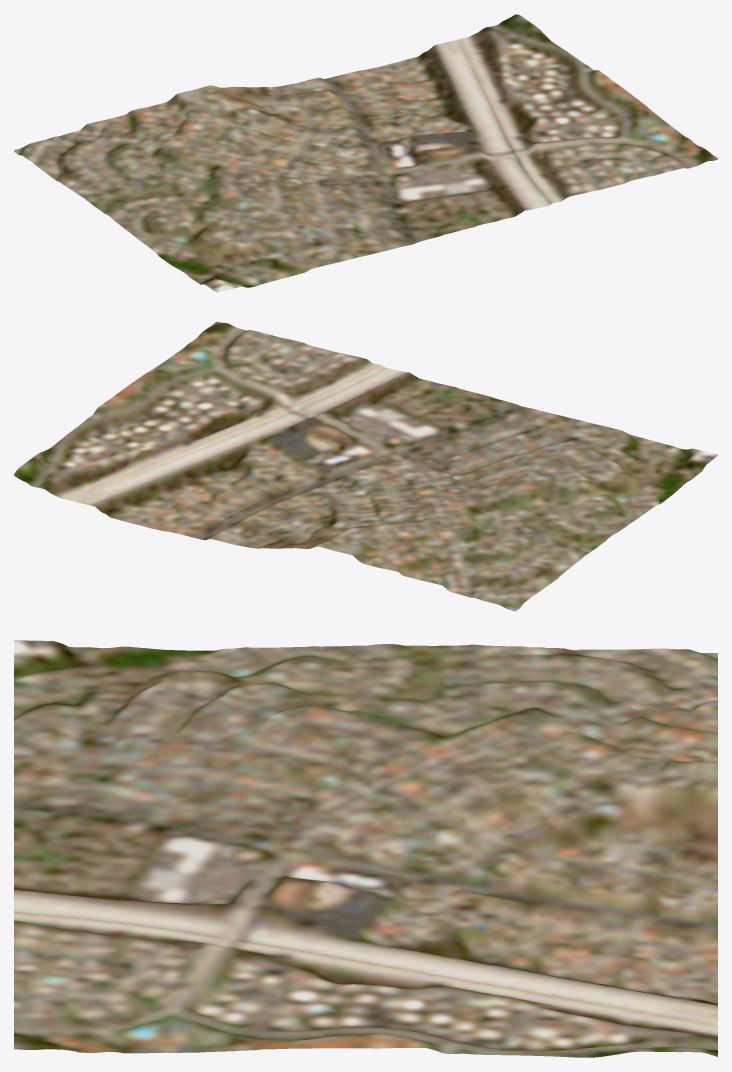
Rendered from terrain_r1_c7.glb.
3 renders of one model, top to bottom at view 1: azimuth 30°, elevation 25°; view 2: azimuth 150°, elevation 25°; view 3: azimuth 270°, elevation 25°, orthographic. The views are drawn at different scales.
Parts seen in each view (by area): view 1: terrain_r1_c7_lod0; view 2: terrain_r1_c7_lod0; view 3: terrain_r1_c7_lod0.
Part boxes in pixels (x1=…): terrain_r1_c7_lod0: x1=14, y1=14, x2=717, y2=292; terrain_r1_c7_lod0: x1=14, y1=321, x2=717, y2=611; terrain_r1_c7_lod0: x1=14, y1=640, x2=717, y2=1057.
Bounding box in the file's own units: 1125 × 55.76 × 787.
Materials: 1 (1 with a texture image).
